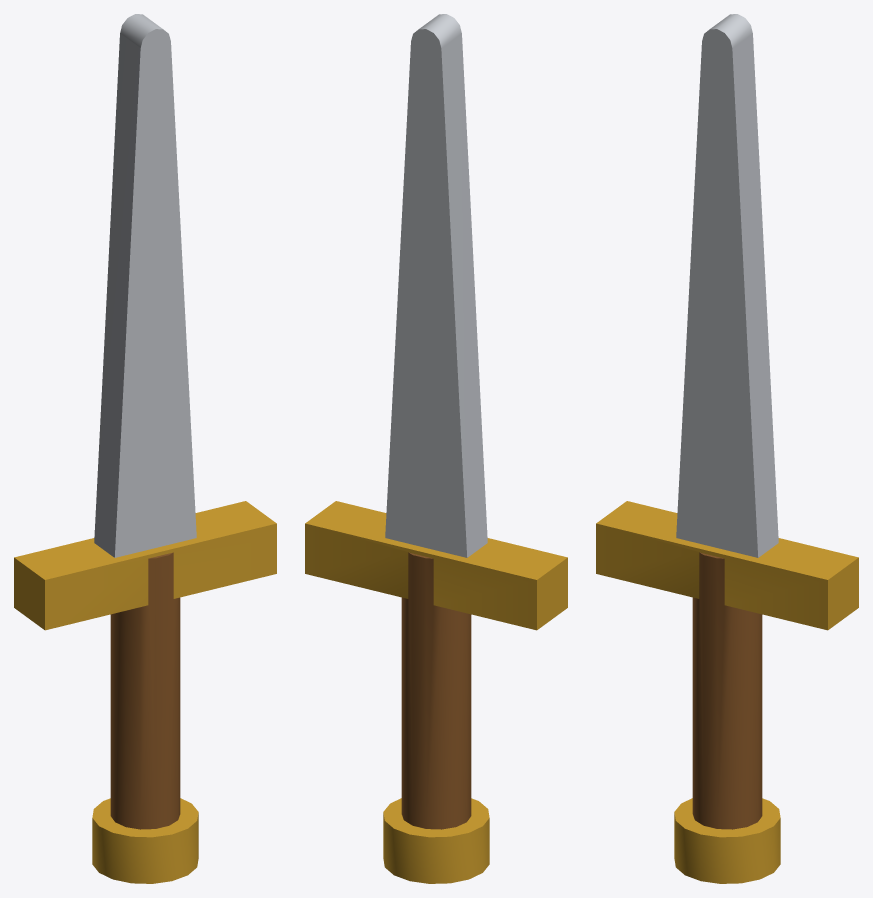
Rendered from toy_sword.glb.
3 renders of one model, left to right at view 1: azimuth 30°, elevation 25°; view 2: azimuth 150°, elevation 25°; view 3: azimuth 330°, elevation 25°, orthographic.
Visible parts, largest first — view 1: toy_sword; view 2: toy_sword; view 3: toy_sword.
Boxes of the visible parts, bbox=[...] form: toy_sword: bbox=[14, 14, 276, 883]; toy_sword: bbox=[305, 14, 567, 883]; toy_sword: bbox=[596, 14, 858, 883].
Size of the model in its own units: 0.026 by 0.09 by 0.0104.
